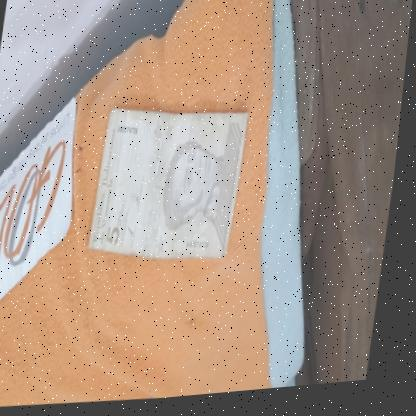vef_front: (91, 100, 253, 273)
